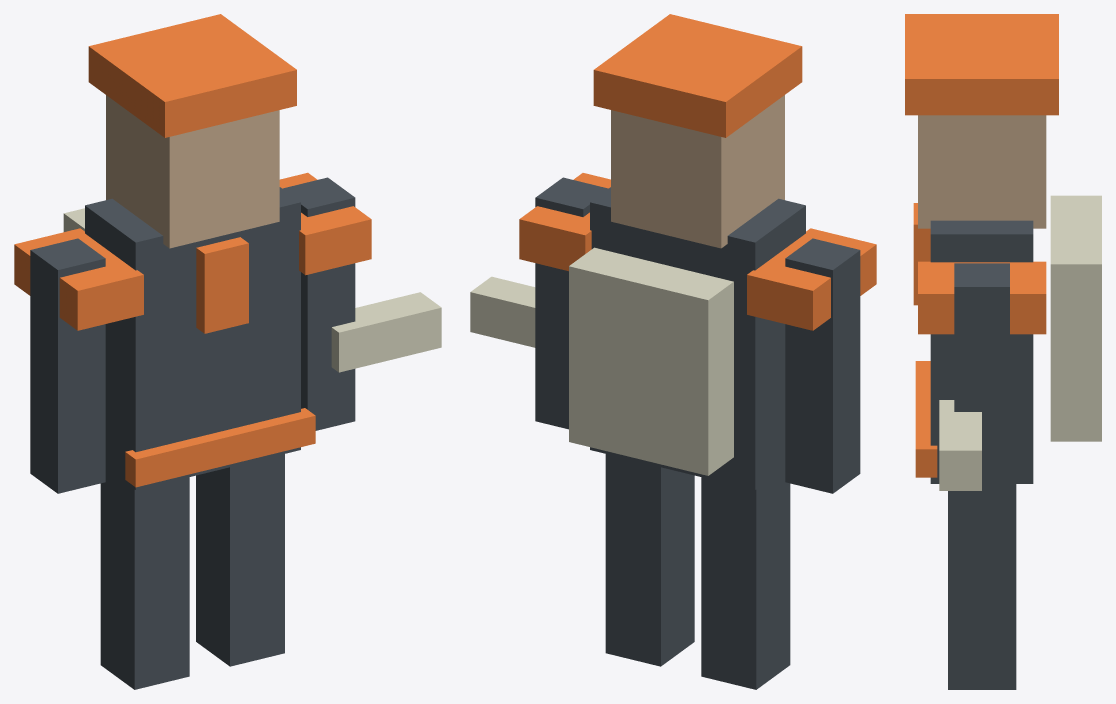
File: 02_kiva_ironwake_keeper_under_tideglass.glb
3 views of the same model, side by side, from view 1: azimuth 30°, elevation 25°; view 2: azimuth 150°, elevation 25°; view 3: azimuth 270°, elevation 25° (orthographic).
Visible parts, largest first — view 1: Kiva Ironwake, Keeper under Tideglass; view 2: Kiva Ironwake, Keeper under Tideglass; view 3: Kiva Ironwake, Keeper under Tideglass.
Part boxes in pixels (x1,y1,x2,y2): Kiva Ironwake, Keeper under Tideglass: (14,14,441,689); Kiva Ironwake, Keeper under Tideglass: (470,14,876,689); Kiva Ironwake, Keeper under Tideglass: (905,14,1101,689).
Bounding box in the file's own units: 1.1 × 1.68 × 0.4949.
